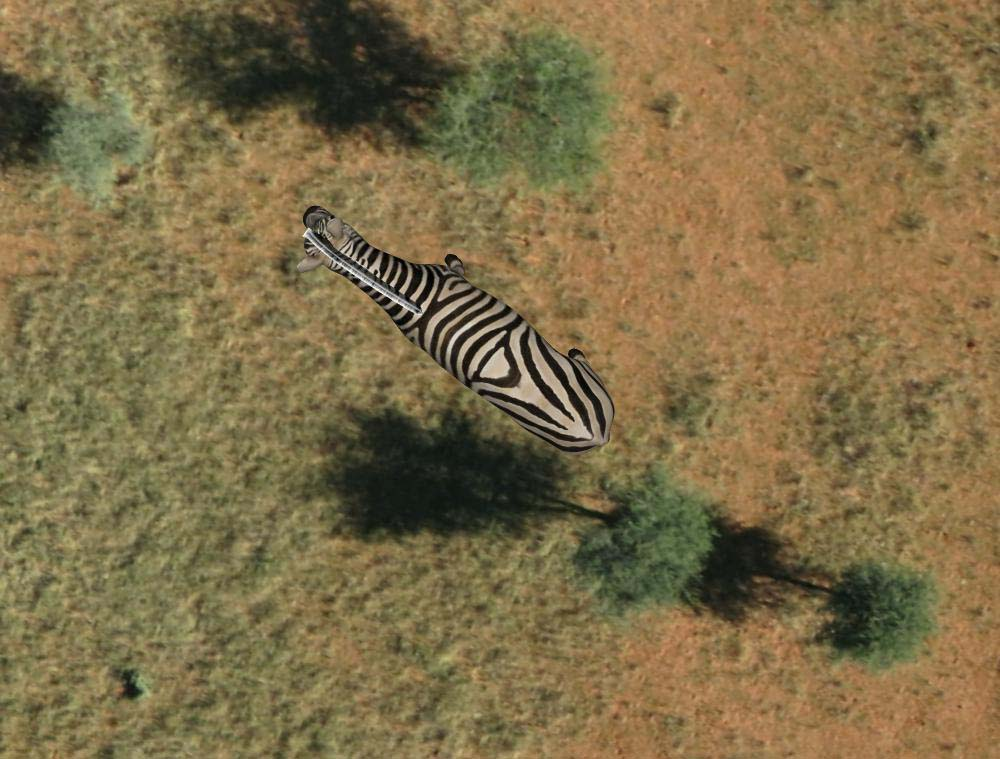zebra: (294, 197, 620, 456)
